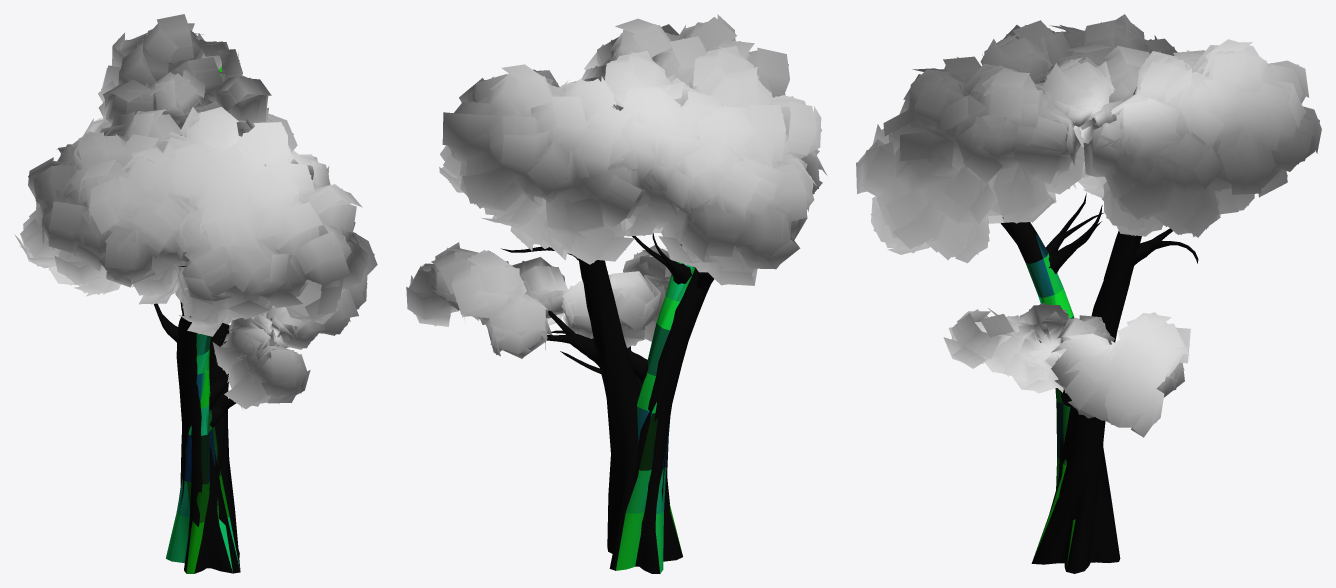
Rendered from SM_tree_oak.fbx.
3 views of the same model, side by side, from view 1: azimuth 30°, elevation 25°; view 2: azimuth 150°, elevation 25°; view 3: azimuth 270°, elevation 25° (orthographic). The views are drawn at different scales.
Parts seen in each view (by area): view 1: tree_thick_01; view 2: tree_thick_01; view 3: tree_thick_01.
Part boxes in pixels (x1,y1,x2,y2): tree_thick_01: (14,14,377,573); tree_thick_01: (406,14,827,573); tree_thick_01: (856,14,1321,573).
Size of the model in its own units: 204 by 269 by 212.
